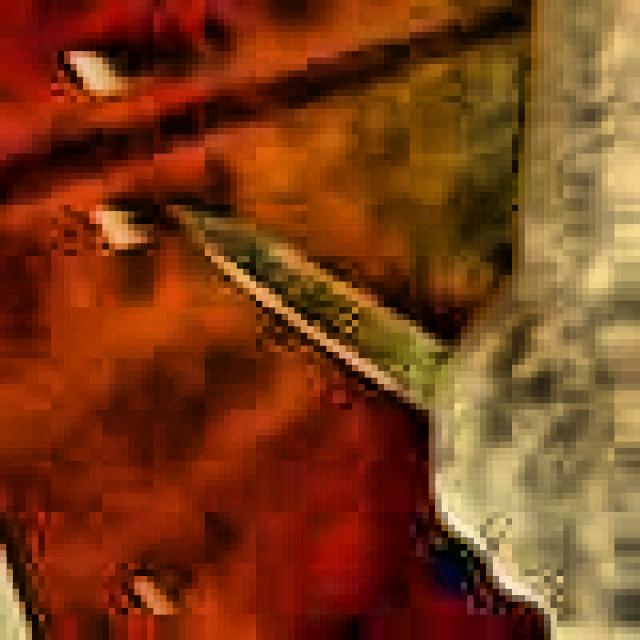knife: (177, 208, 456, 408)
